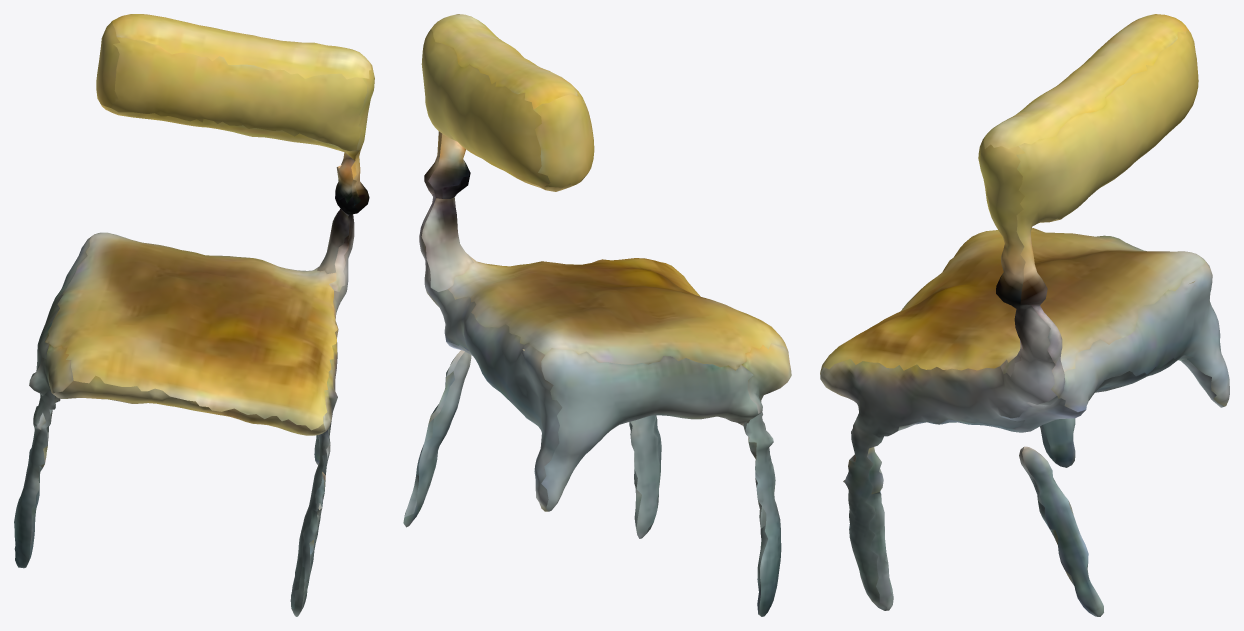
The model's file is 29_chair.glb.
3 renders of one model, left to right at view 1: azimuth 30°, elevation 25°; view 2: azimuth 150°, elevation 25°; view 3: azimuth 270°, elevation 25°, orthographic. The views are drawn at different scales.
Visible parts, largest first — view 1: 29_chair; view 2: 29_chair; view 3: 29_chair.
Part boxes in pixels (x1,y1,x2,y2): 29_chair: (14, 14, 374, 616); 29_chair: (403, 14, 791, 616); 29_chair: (820, 14, 1229, 616).
Bounding box in the file's own units: 0.7625 × 1.12 × 0.73.
1 material, 1 textured.
